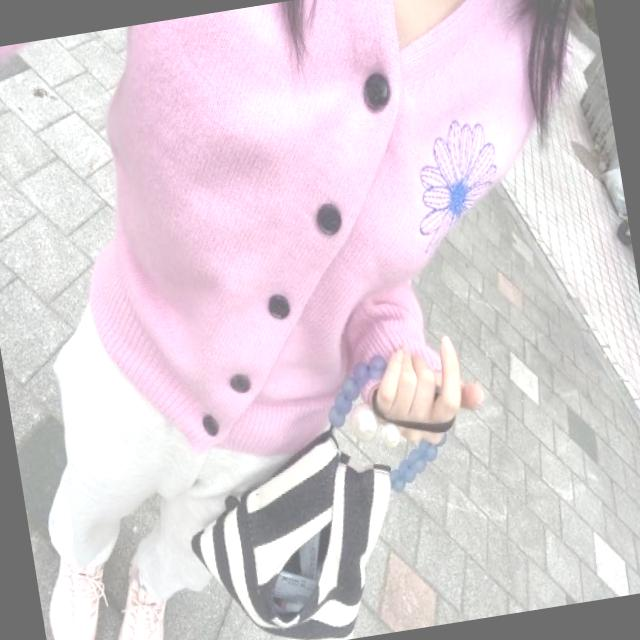cardigan: (0, 0, 631, 493)
trainingpants: (14, 258, 331, 630)
